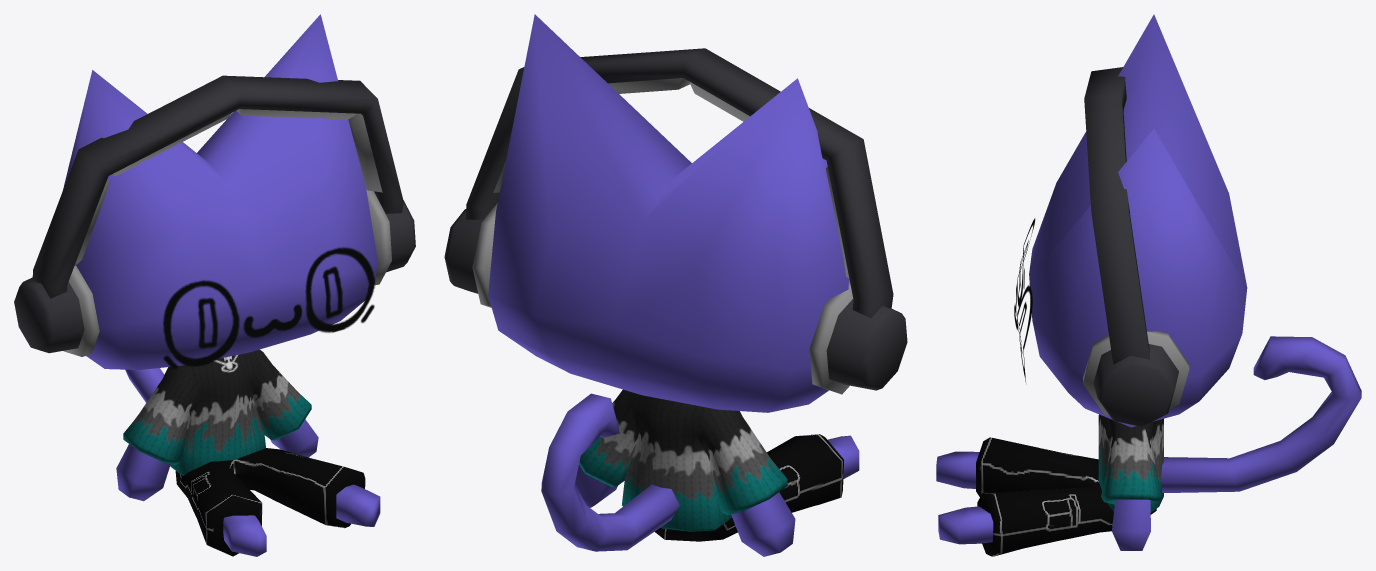
The model's file is aki_cat.gltf.
3 views of the same model, side by side, from view 1: azimuth 30°, elevation 25°; view 2: azimuth 150°, elevation 25°; view 3: azimuth 270°, elevation 25° (orthographic). The views are drawn at different scales.
Visible parts, largest first — view 1: akicat; view 2: akicat; view 3: akicat.
Part boxes in pixels (box(x1,y1,x2,y2)): akicat: box(14, 14, 415, 556); akicat: box(444, 14, 907, 556); akicat: box(936, 14, 1361, 556).
Size of the model in its own units: 0.9665 by 1.1 by 0.9305.
2 materials, 2 textured.
